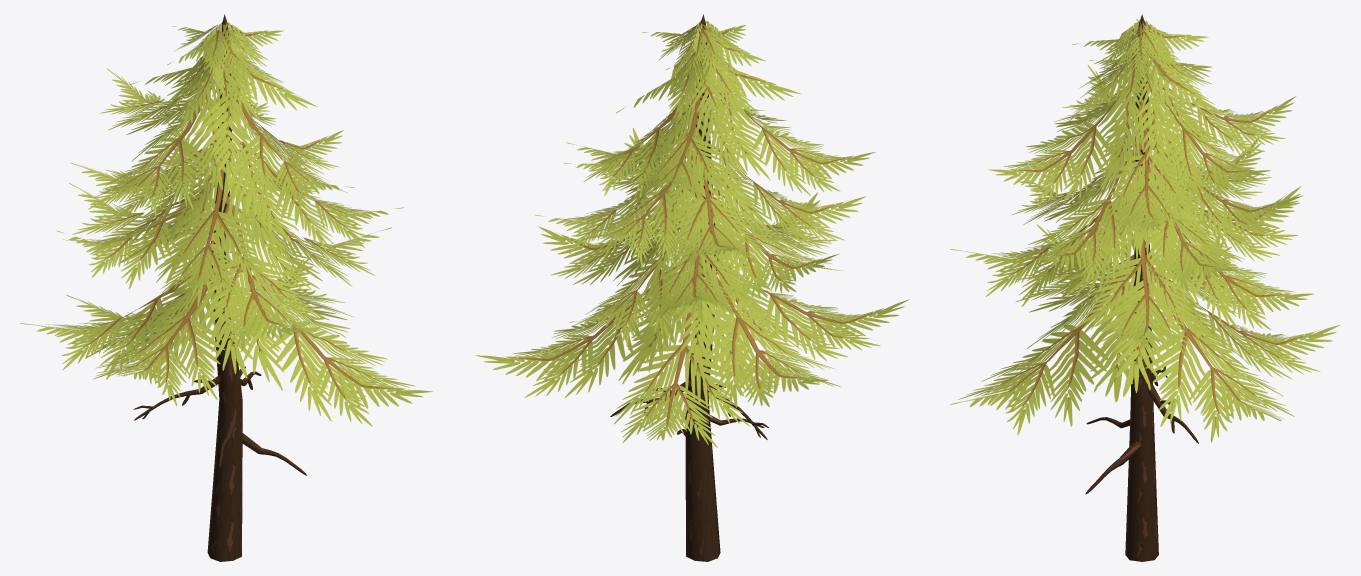
The model's file is tree-pine.glb.
The picture shows the model from 3 angles, left to right: view 1: azimuth 30°, elevation 25°; view 2: azimuth 150°, elevation 25°; view 3: azimuth 270°, elevation 25°; orthographic projection.
Visible parts, largest first — view 1: PineTree_1; view 2: PineTree_1; view 3: PineTree_1.
Part boxes in pixels (x1,y1,x2,y2): PineTree_1: (20, 14, 432, 561); PineTree_1: (475, 14, 909, 561); PineTree_1: (950, 14, 1340, 561).
Bounding box in the file's own units: 2.98 × 4.5 × 3.03.
Materials: 2 (2 with a texture image).
